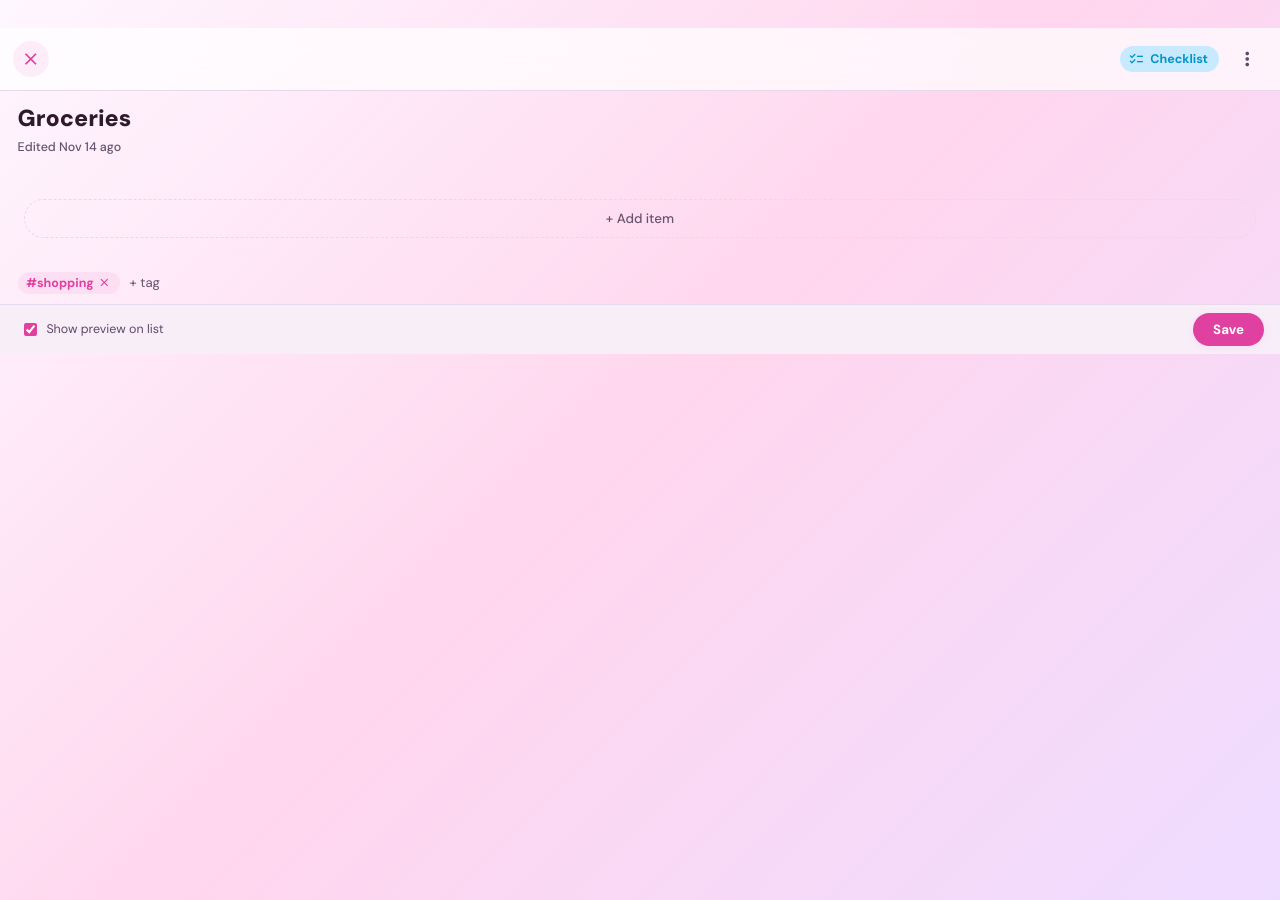
saving › asks for the password instead of reporting an error when the note locked mid-edit
Replace the text in the text box with class "title-input" with "locked out": (640,119) [0, 103, 1279, 135]
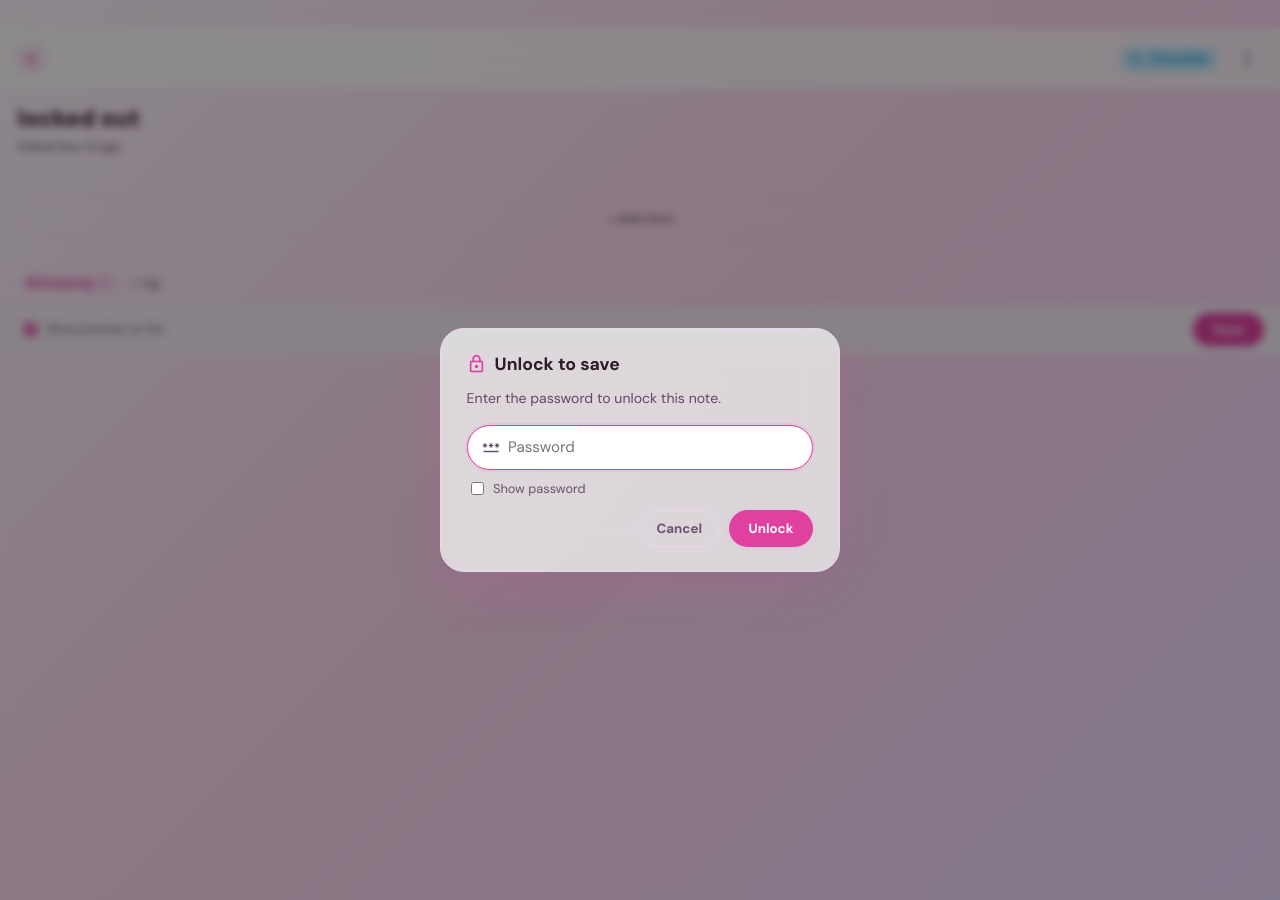
Expected: the password field with placeholder "Password" is shown, [508, 426, 798, 469]
